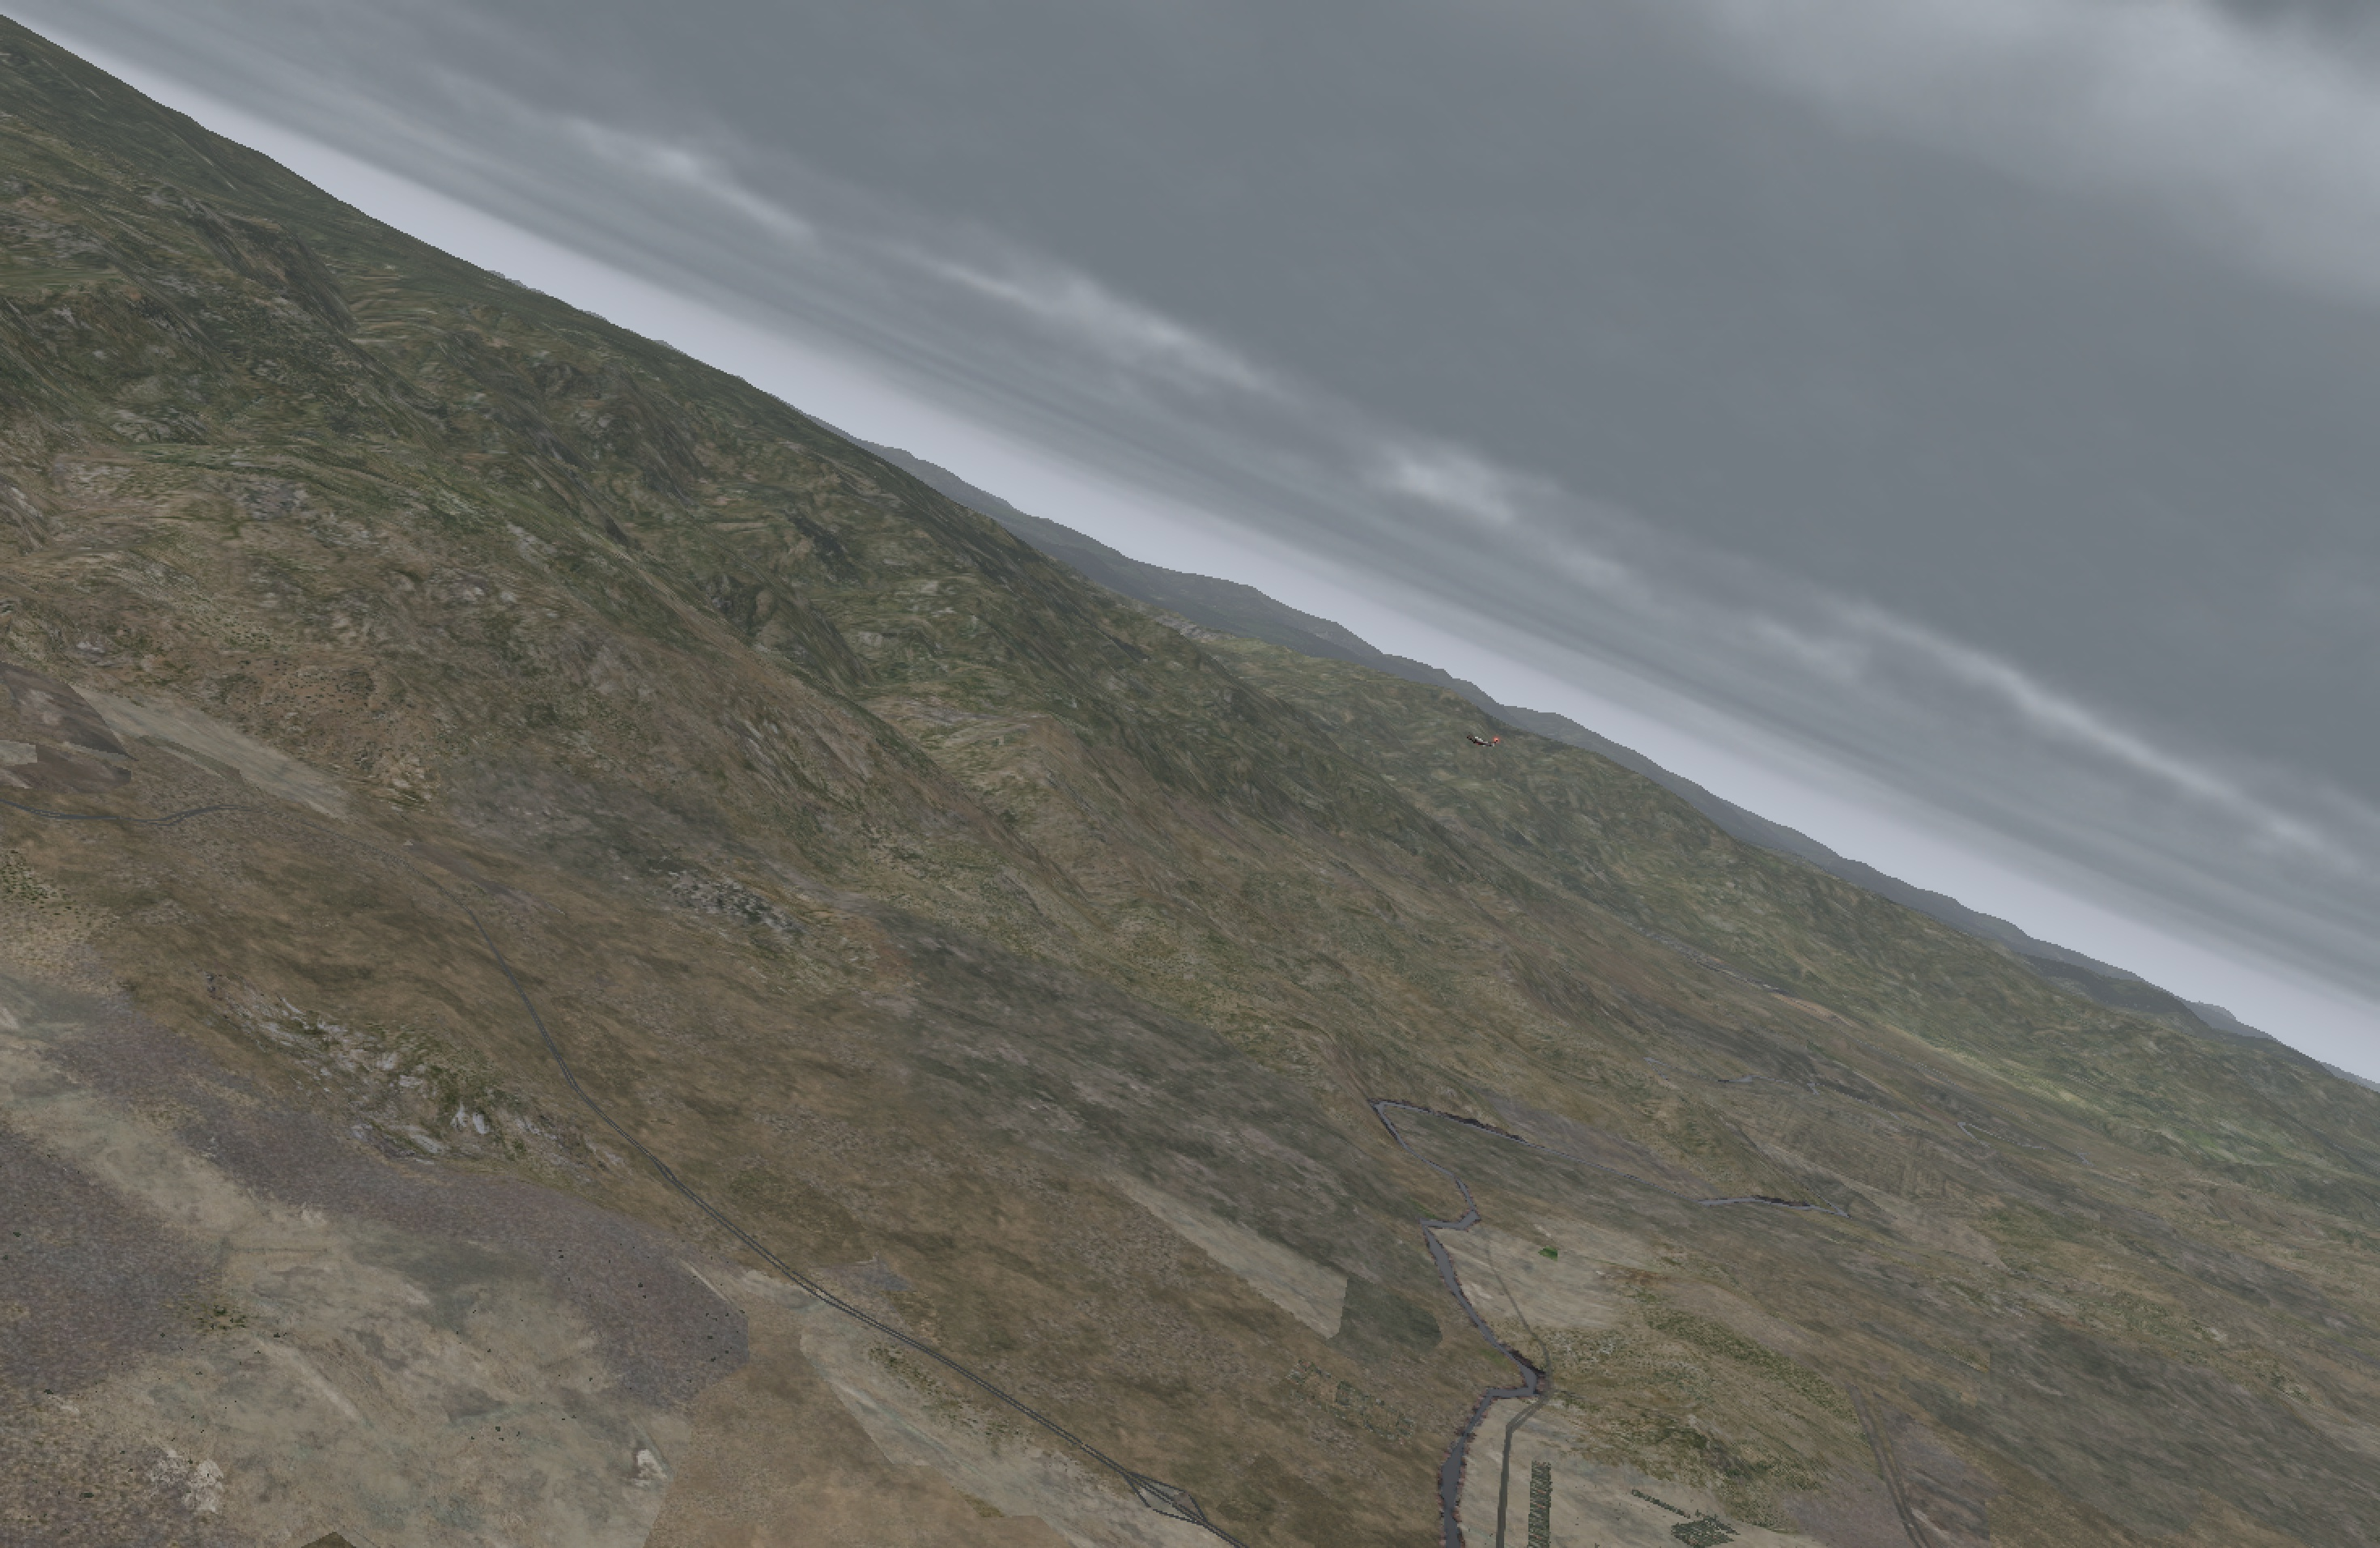aircraft: (1452, 732, 1499, 751)
